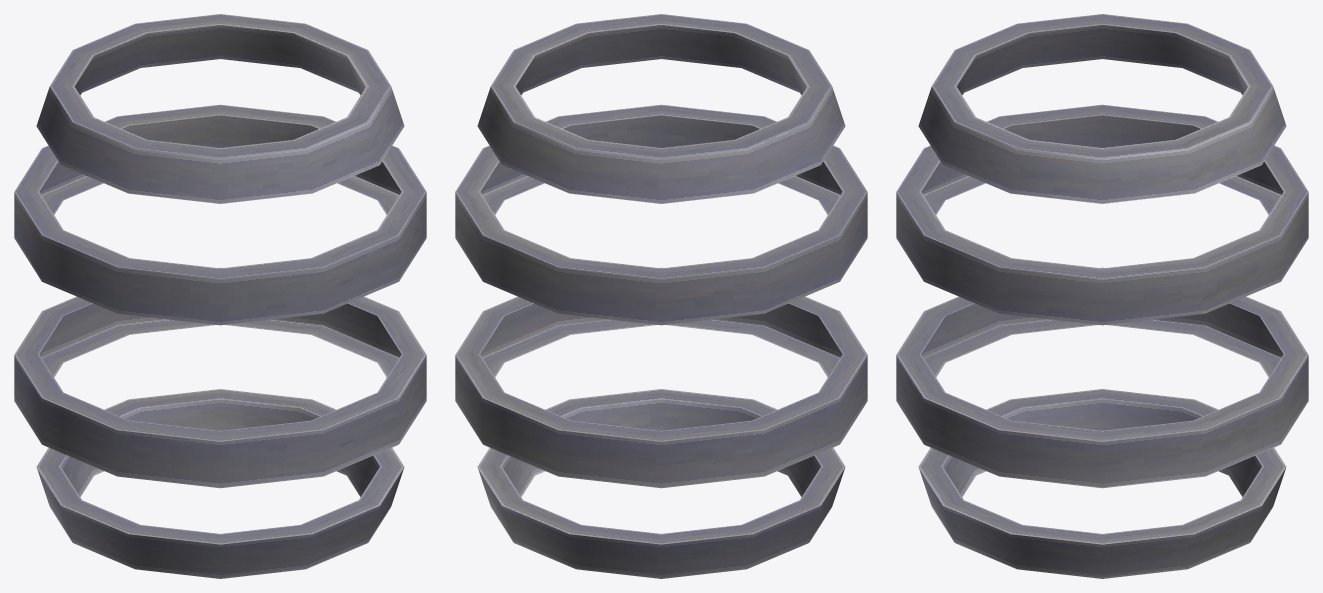
Rendered from BarrelMetal.fbx.
The picture shows the model from 3 angles, left to right: view 1: azimuth 30°, elevation 25°; view 2: azimuth 150°, elevation 25°; view 3: azimuth 270°, elevation 25°; orthographic projection.
Parts seen in each view (by area): view 1: BarrelMetal; view 2: BarrelMetal; view 3: BarrelMetal.
Part boxes in pixels (x1,y1,x2,y2): BarrelMetal: [14, 14, 426, 578]; BarrelMetal: [455, 14, 867, 578]; BarrelMetal: [896, 14, 1308, 578].
Size of the model in its own units: 0.9519 by 1.07 by 0.9519.
